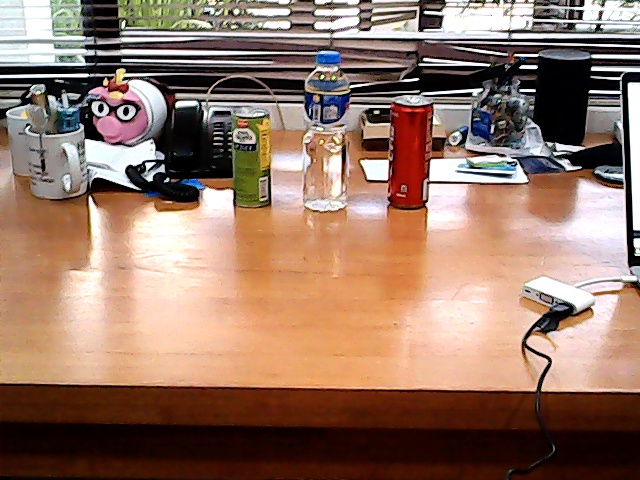Cola: (384, 85, 436, 216)
Pine Juice: (223, 98, 281, 216)
Summit Water: (296, 48, 355, 217)
